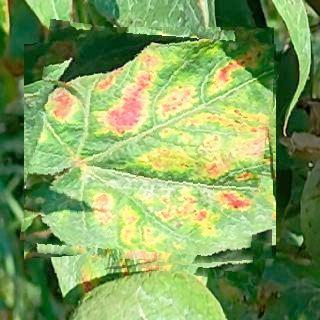blight: (26, 27, 274, 275)
